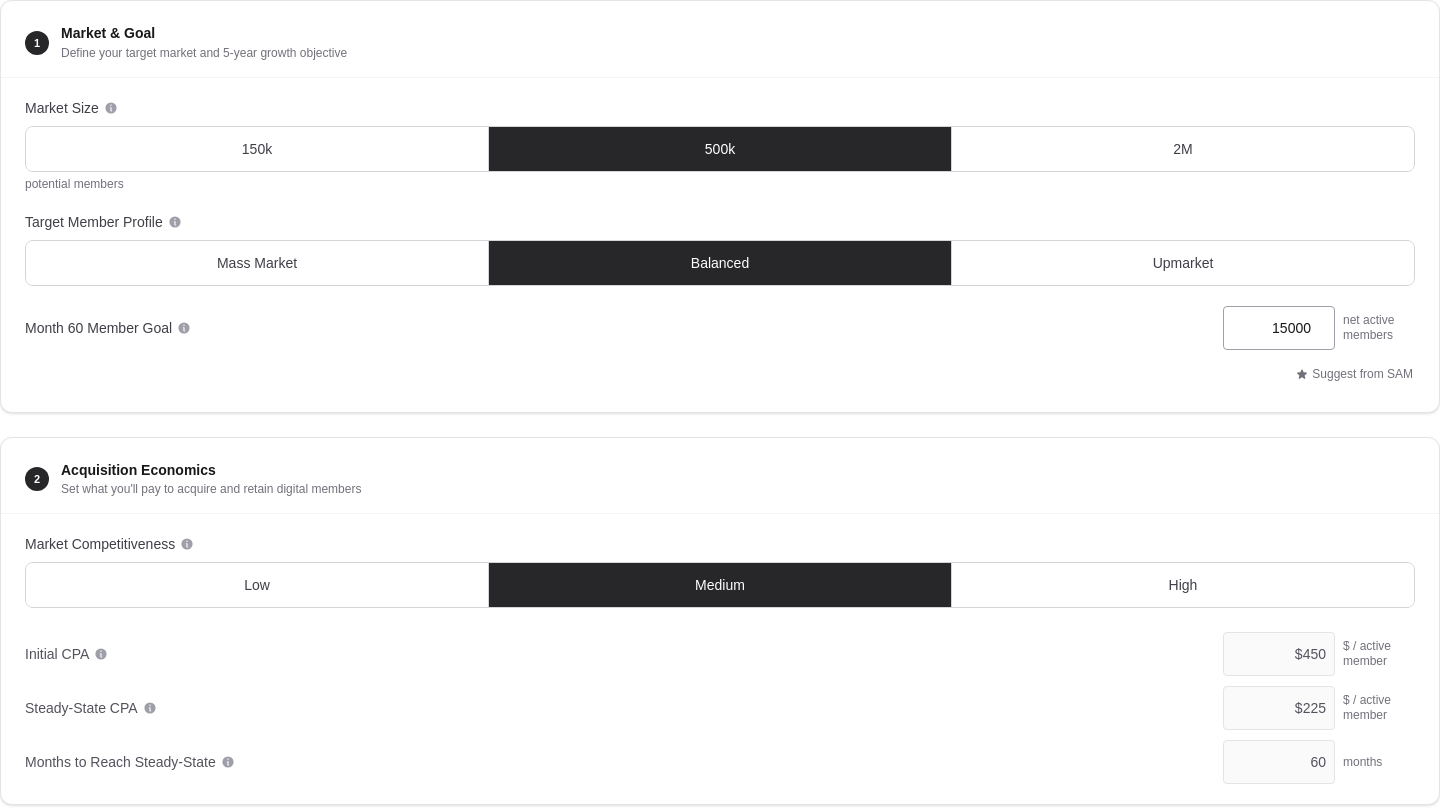
Scenario: ModelInputs › lever tooltips › Market Size tooltip mentions milestone re-suggestion
Step 1. Hover over the button named "more information" next to "Market Size" → (111,108), box 103,100 -> 119,116
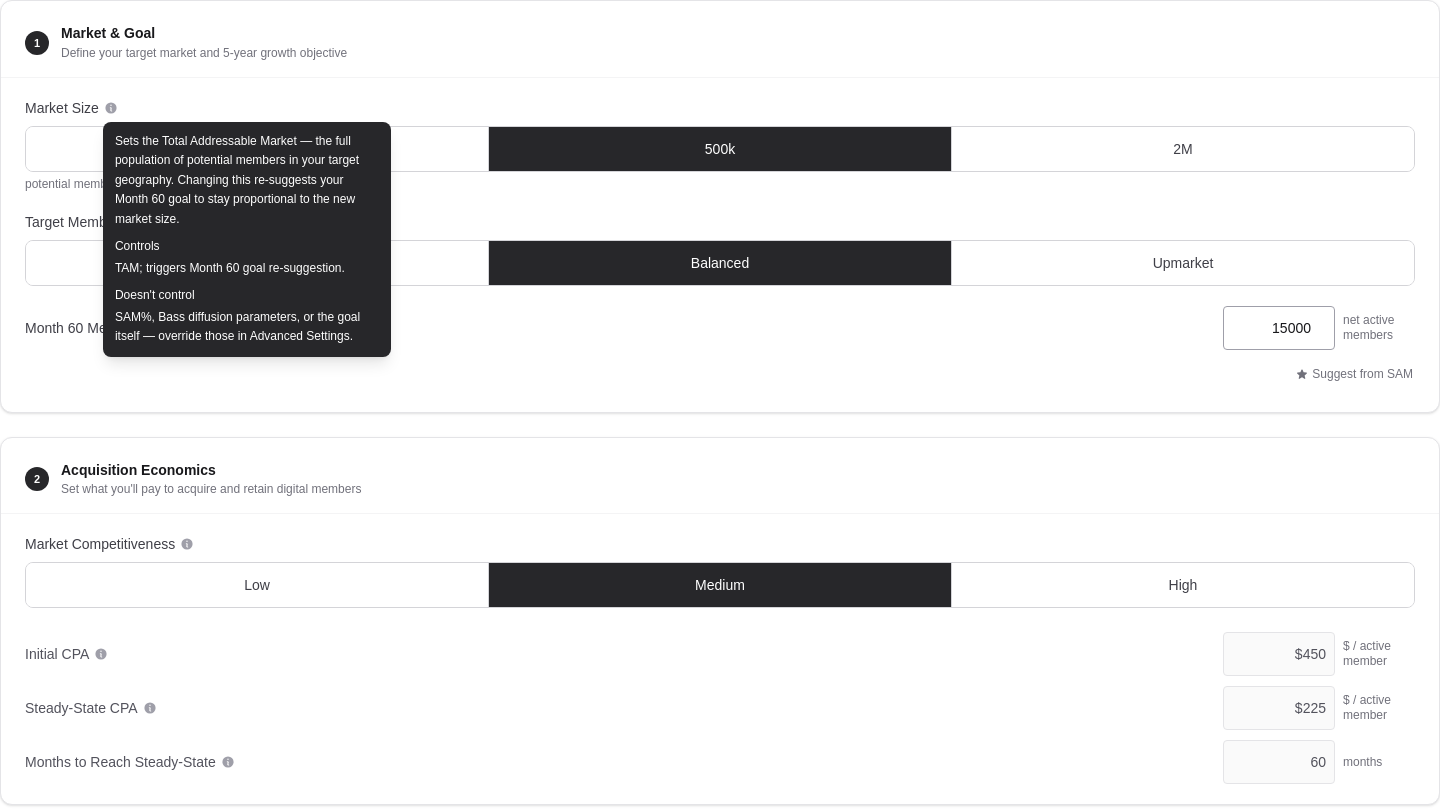
expect the tooltip shows "re-suggest": met, box 115,134 -> 359,226
